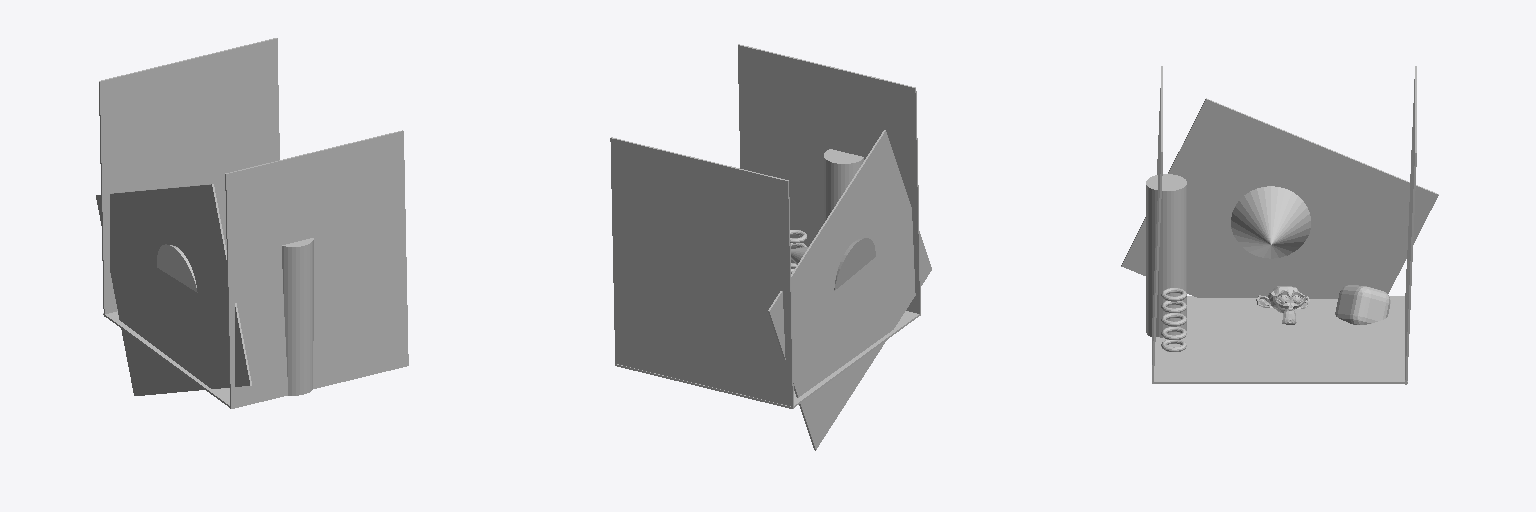
Rendered from smooth.obj.
3 views of the same model, side by side, from view 1: azimuth 30°, elevation 25°; view 2: azimuth 150°, elevation 25°; view 3: azimuth 270°, elevation 25° (orthographic).
Visible parts, largest first — view 1: Cube.006, Cube.005, Cube.003_Cube.000, Cylinder.001, Cone.001, Cube.004; view 2: Cube.005, Cube.003_Cube.000, Cube.006, Cylinder.001, Cube.004, Cone.001; view 3: Cube.003_Cube.000, Cube.004, Cylinder.001, Cone.001, Mball.001, Cube.005, Cube.006, Suzanne.004.
Boxes of the visible parts, <box> form: Cube.006: <box>225,130,408,408</box>; Cube.005: <box>99,38,279,316</box>; Cube.003_Cube.000: <box>96,184,251,395</box>; Cylinder.001: <box>282,238,313,395</box>; Cone.001: <box>157,244,197,292</box>; Cube.004: <box>103,311,229,407</box>; Cube.005: <box>610,137,793,408</box>; Cube.003_Cube.000: <box>768,130,931,450</box>; Cube.006: <box>738,44,920,315</box>; Cylinder.001: <box>824,149,863,222</box>; Cube.004: <box>615,311,919,408</box>; Cone.001: <box>791,238,875,290</box>; Cube.003_Cube.000: <box>1121,98,1438,298</box>; Cube.004: <box>1152,296,1407,383</box>; Cylinder.001: <box>1146,174,1186,337</box>; Cone.001: <box>1231,186,1310,258</box>; Mball.001: <box>1335,285,1390,324</box>; Cube.005: <box>1405,66,1416,384</box>; Cube.006: <box>1152,66,1162,381</box>; Suzanne.004: <box>1256,286,1309,324</box>.
Bounding box in the file's own units: 20.06 × 31.59 × 30.97.